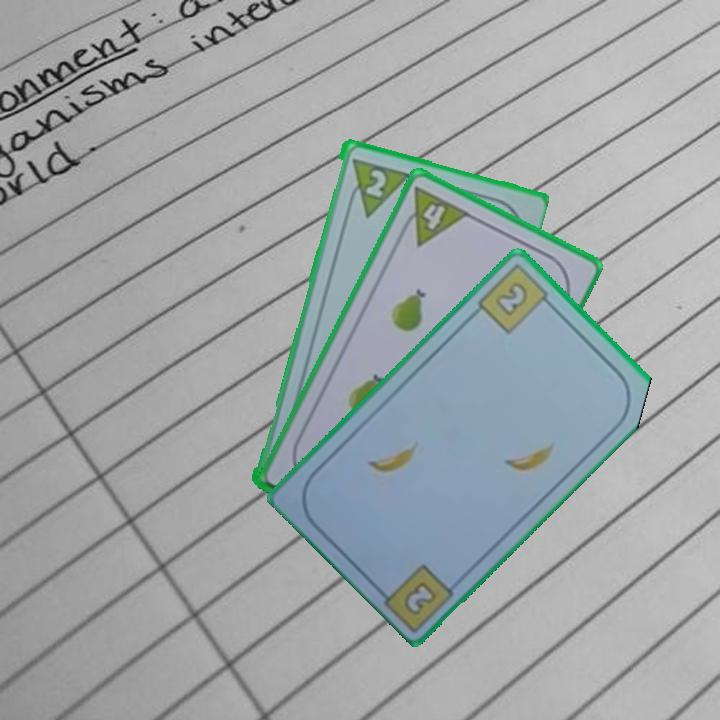2b: (473, 260, 558, 337), (400, 577, 440, 618)
2p: (342, 154, 410, 219)
4p: (394, 183, 472, 249)
